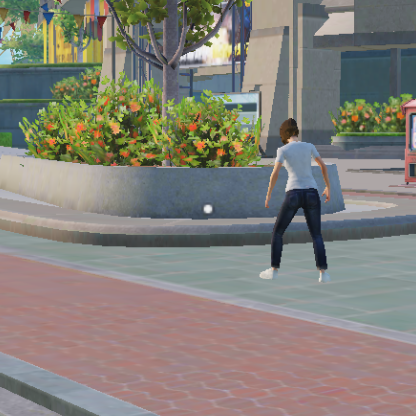ren: (263, 118, 333, 280)
tou: (279, 119, 301, 146)
